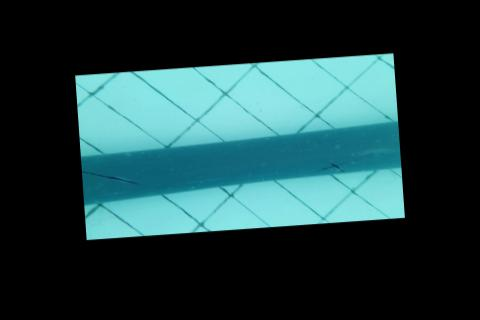keretakan: (80, 164, 136, 188), (315, 160, 356, 175)
